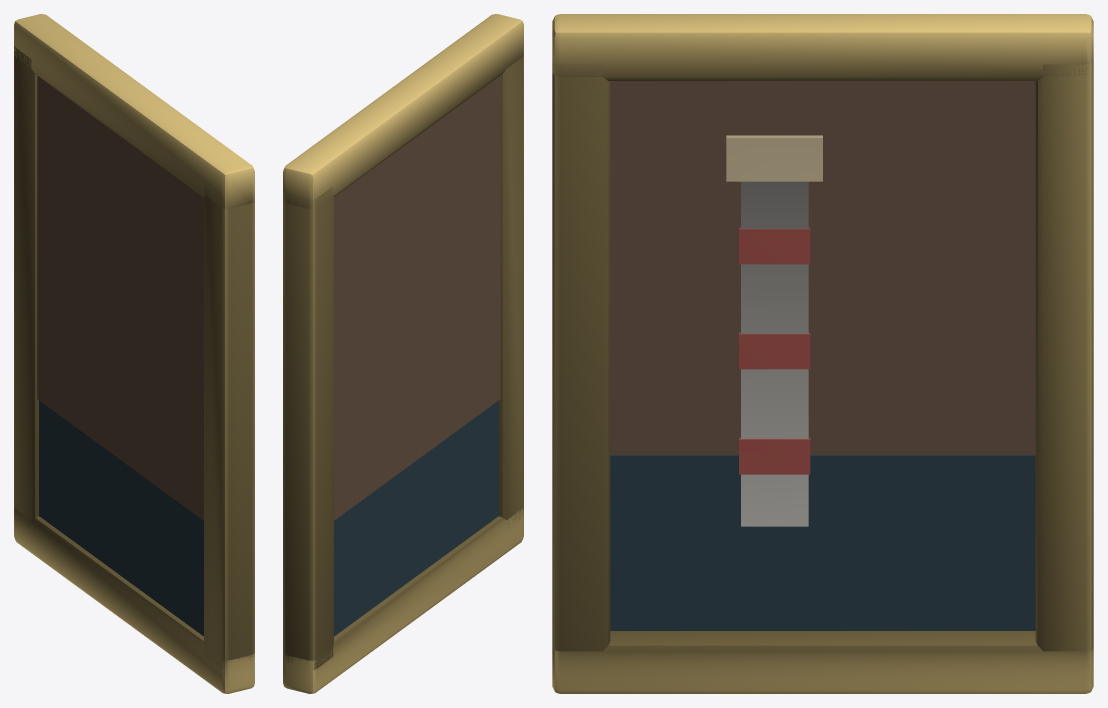
The model's file is pic_light.glb.
The picture shows the model from 3 angles, left to right: view 1: azimuth 30°, elevation 25°; view 2: azimuth 150°, elevation 25°; view 3: azimuth 270°, elevation 25°; orthographic projection. The views are drawn at different scales.
Visible parts, largest first — view 1: boat_gilt, boat_paint_dusk, boat_paint_sea; view 2: boat_gilt, boat_paint_dusk, boat_paint_sea; view 3: boat_paint_dusk, boat_gilt, boat_paint_sea, boat_paint_white, boat_paint_red, boat_lampg.
Part boxes in pixels (box(x1,y1,x2,y2)): boat_gilt: box(14, 14, 254, 693); boat_paint_dusk: box(37, 76, 203, 520); boat_paint_sea: box(39, 400, 203, 636); boat_gilt: box(283, 14, 523, 693); boat_paint_dusk: box(334, 76, 500, 520); boat_paint_sea: box(334, 400, 498, 636); boat_paint_dusk: box(610, 81, 1035, 454); boat_gilt: box(552, 14, 1093, 693); boat_paint_sea: box(610, 455, 1035, 630); boat_paint_white: box(741, 181, 808, 526); boat_paint_red: box(739, 227, 810, 474); boat_lampg: box(726, 135, 822, 181).
Size of the model in its own units: 0.05 by 0.76 by 0.56.
